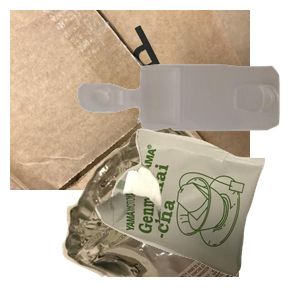cardboard: (10, 10, 250, 190)
glass: (60, 120, 300, 300)
plastic: (75, 62, 300, 186)
trash: (93, 126, 300, 300)
